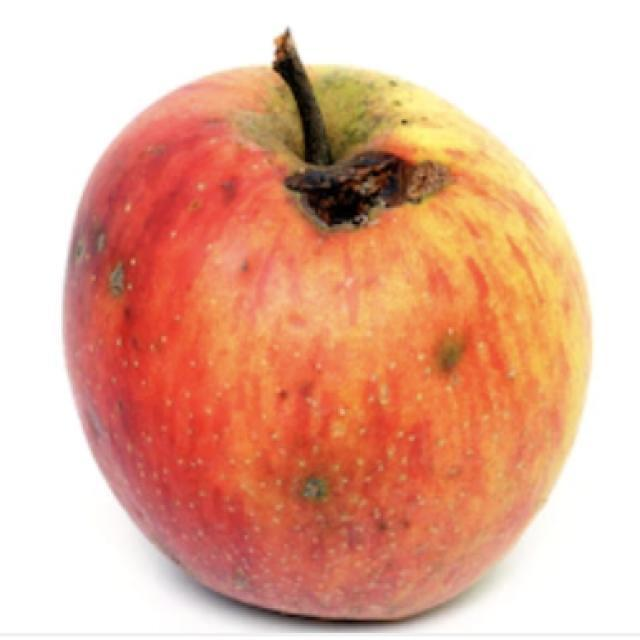Rotten: (43, 50, 570, 608)
